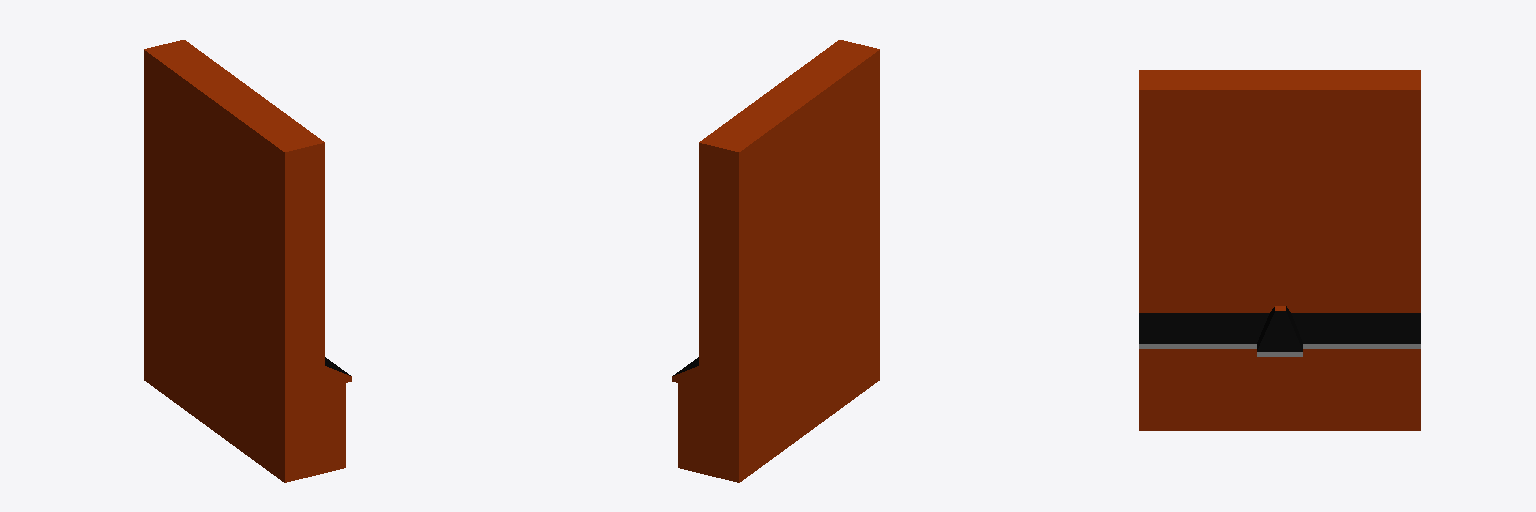
File: building.obj
3 renders of one model, left to right at view 1: azimuth 30°, elevation 25°; view 2: azimuth 150°, elevation 25°; view 3: azimuth 270°, elevation 25°, orthographic.
Parts seen in each view (by area): view 1: Cube; view 2: Cube; view 3: Cube.
Boxes of the visible parts, x1,y1,x2,y2 form: Cube: [144, 40, 351, 482]; Cube: [672, 40, 879, 482]; Cube: [1139, 70, 1420, 430].
Size of the model in its own units: 4.12 by 15.53 by 12.